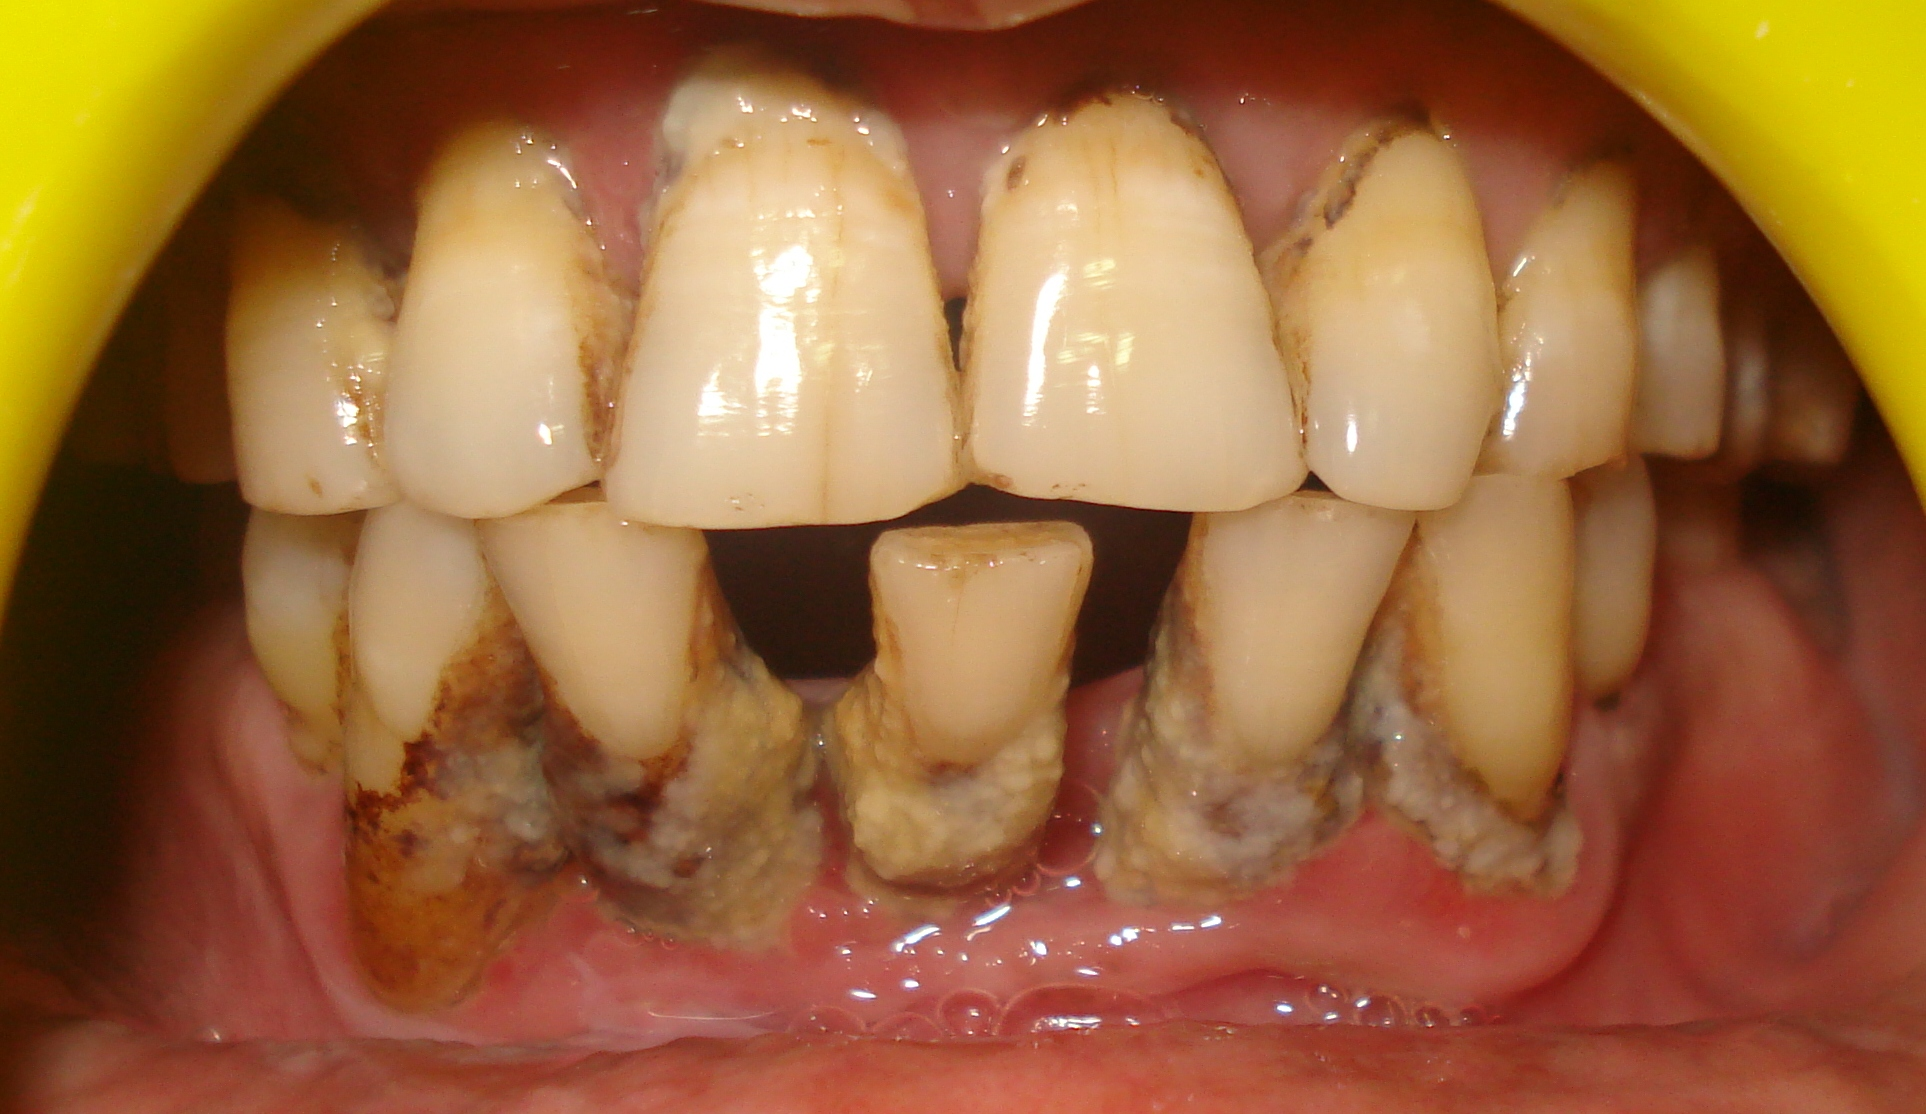LLCI_decay: (1109, 501, 1406, 890)
LLC_decay: (1581, 473, 1671, 711)
LLLI_decay: (1372, 493, 1587, 898)
LR1BC_decay: (213, 496, 347, 790)
LRCI_decay: (852, 532, 1074, 893)
LRC_decay: (327, 521, 554, 984)
LRLI_decay: (475, 507, 832, 926)
UL1BC_healthy: (1633, 248, 1728, 467)
ULCI_decay: (958, 78, 1310, 513)
ULC_decay: (1487, 142, 1637, 485)
ULLI_decay: (1276, 95, 1506, 513)
URCI_decay: (610, 72, 960, 521)
URC_decay: (213, 192, 399, 517)
URLI_decay: (374, 126, 614, 511)
